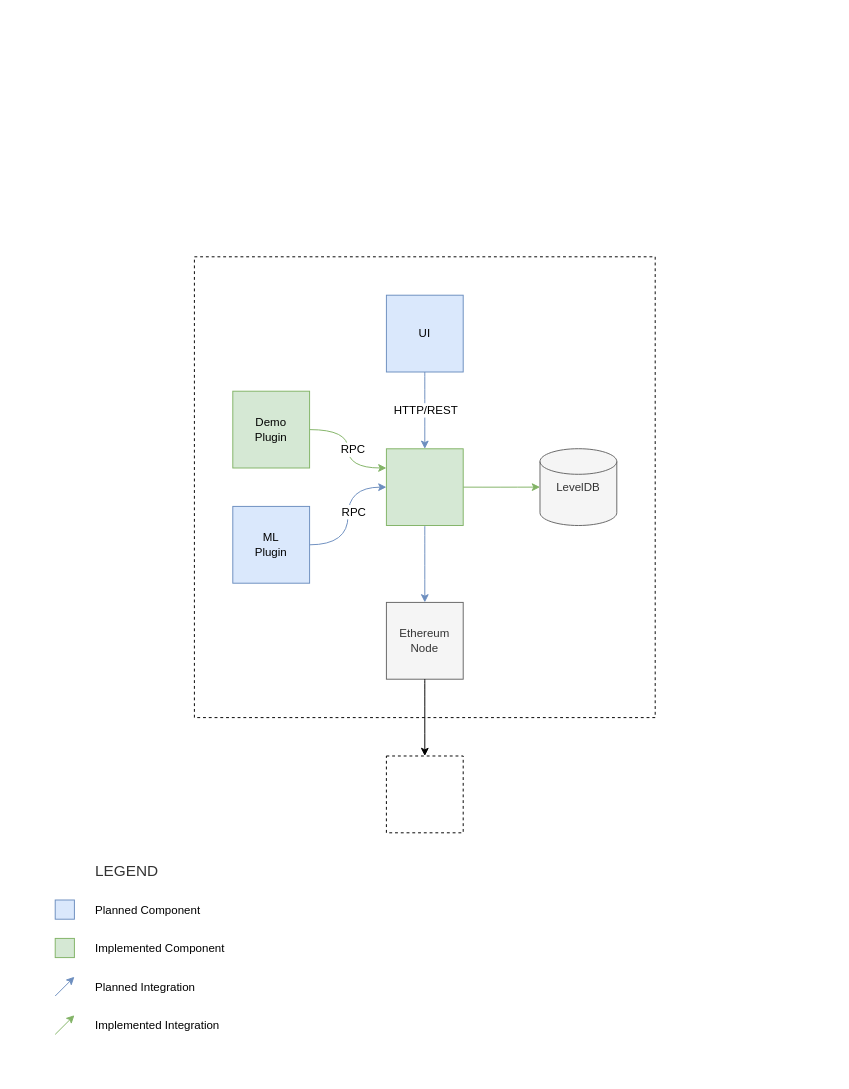
Image size: 849x1089. Some labels were removed from this diagram. Each missing label, with the box of its shape:
Ethereum Network: (385, 755, 463, 833)
Node Service: (385, 448, 463, 526)
Velas Sphere Node: (193, 256, 655, 718)
